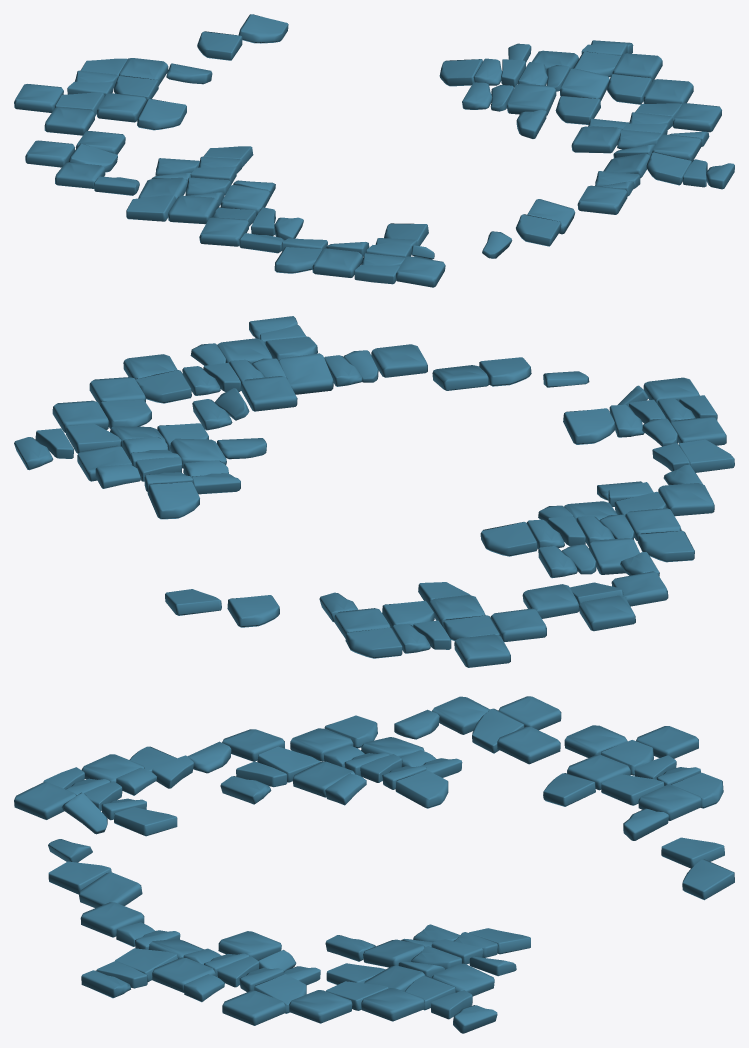
Rendered from Floor_Break_01C_Lod0.fbx.
3 renders of one model, top to bottom at view 1: azimuth 30°, elevation 25°; view 2: azimuth 150°, elevation 25°; view 3: azimuth 270°, elevation 25°, orthographic. The views are drawn at different scales.
Parts seen in each view (by area): view 1: Floor_Break_01C_Lod0; view 2: Floor_Break_01C_Lod0; view 3: Floor_Break_01C_Lod0.
Part boxes in pixels (box(x1,y1,x2,y2)): Floor_Break_01C_Lod0: box(14, 14, 734, 287); Floor_Break_01C_Lod0: box(14, 316, 734, 667); Floor_Break_01C_Lod0: box(14, 696, 734, 1033).
Size of the model in its own units: 819 by 41.31 by 782.
